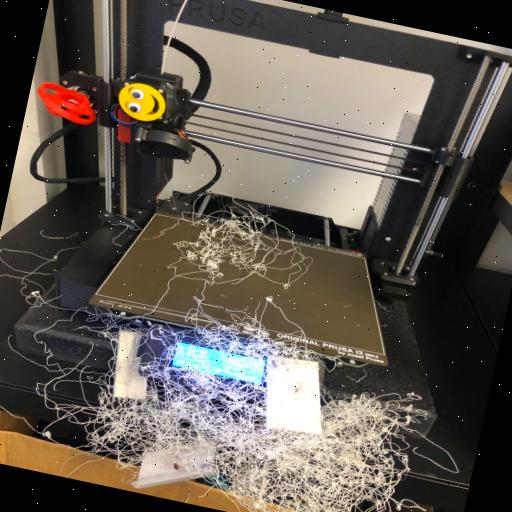spaghetti: (38, 273, 455, 512), (164, 181, 324, 301)
